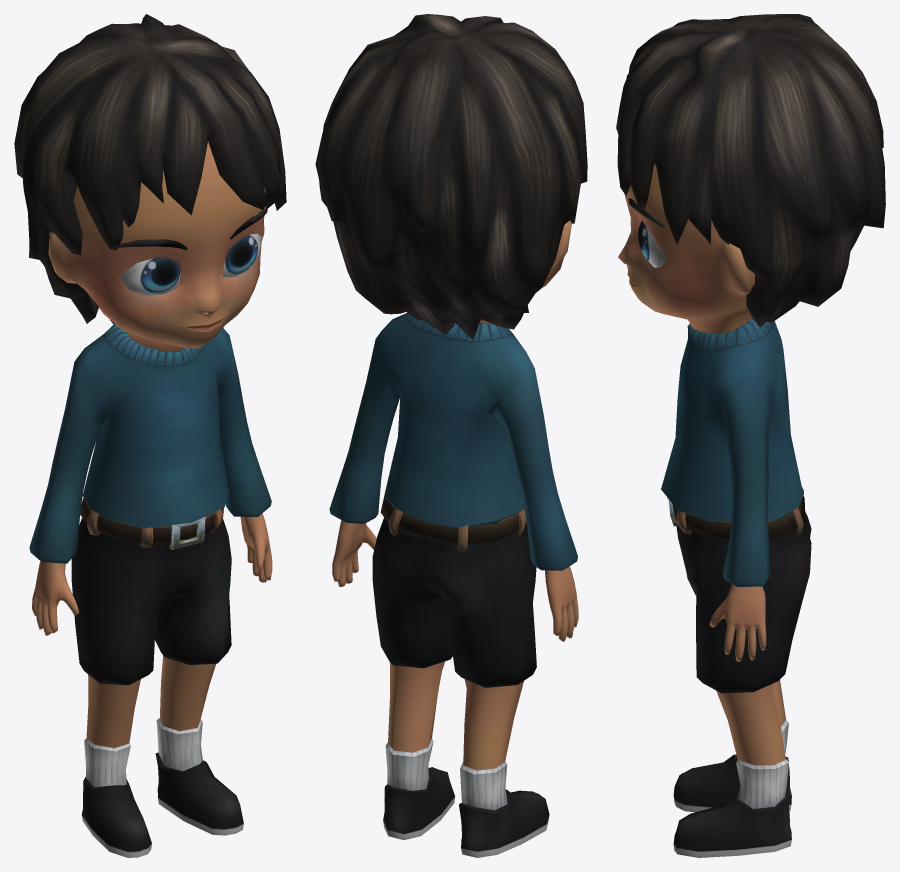
The model's file is asset.gltf.
The picture shows the model from 3 angles, left to right: view 1: azimuth 30°, elevation 25°; view 2: azimuth 150°, elevation 25°; view 3: azimuth 270°, elevation 25°; orthographic projection. The views are drawn at different scales.
Parts seen in each view (by area): view 1: boy; view 2: boy; view 3: boy.
Boxes of the visible parts, x1,y1,x2,y2 form: boy: [14, 14, 286, 857]; boy: [315, 14, 587, 857]; boy: [616, 14, 885, 857].
Size of what is drawn, in the model's own units: 40.43 by 131 by 39.91.
1 material, 1 textured.
